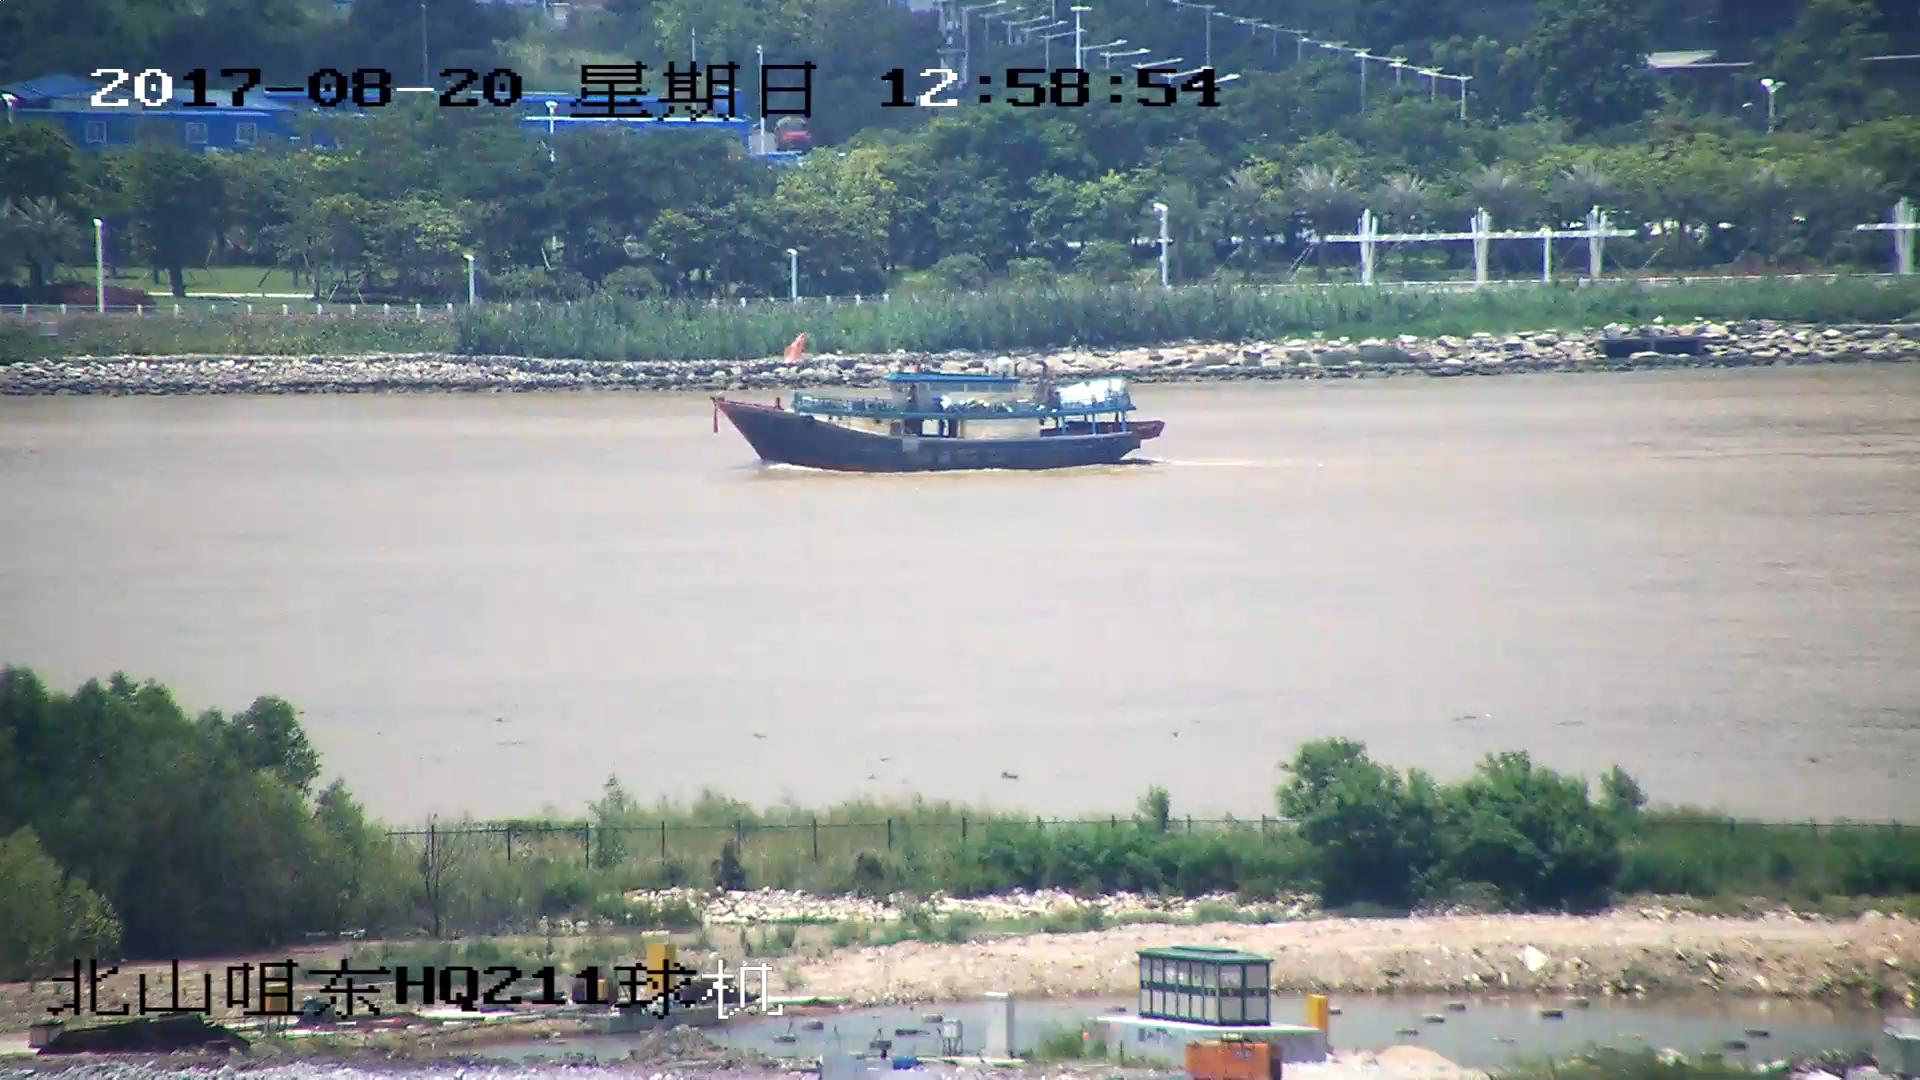fishing boat: (713, 370, 1167, 473)
